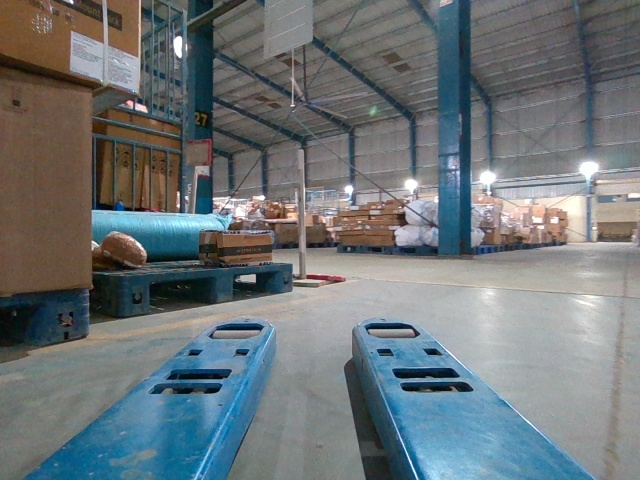block: (118, 274, 151, 316), (209, 267, 235, 300), (274, 262, 295, 292)
front: (122, 260, 292, 319)
hole pallet: (148, 273, 217, 312), (228, 265, 284, 300)
